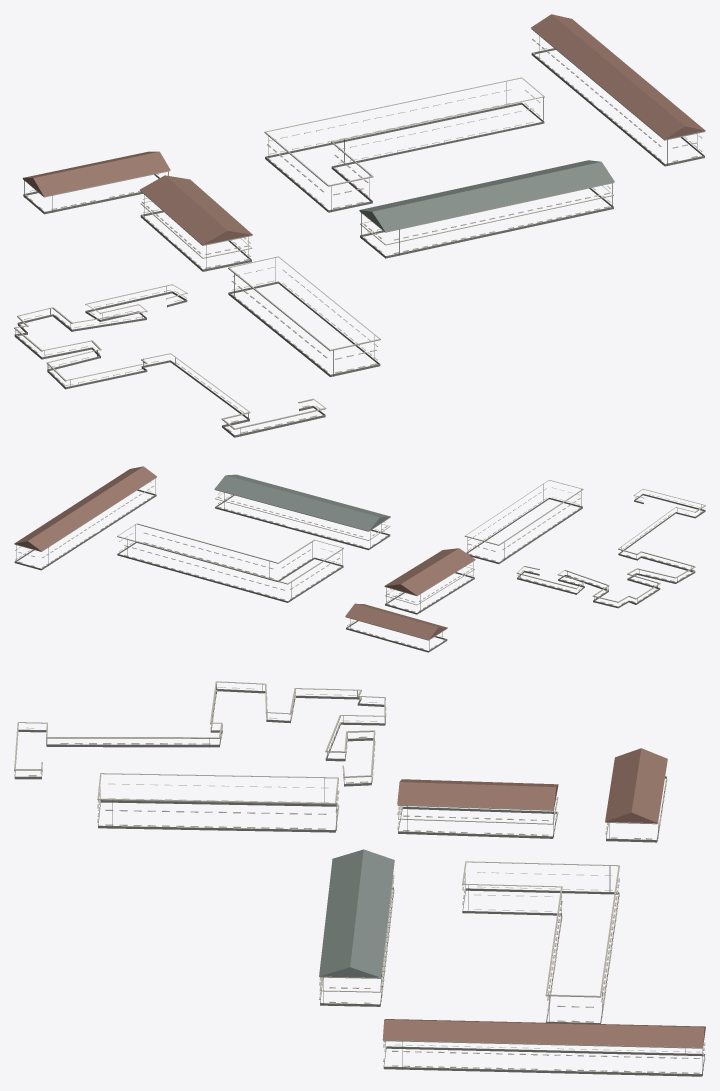
The model's file is district_1_-3.glb.
The picture shows the model from 3 angles, top to bottom: view 1: azimuth 30°, elevation 25°; view 2: azimuth 150°, elevation 25°; view 3: azimuth 270°, elevation 25°; orthographic projection. The views are drawn at different scales.
Parts seen in each view (by area): view 1: RoofMetal, MasonryTrim; view 2: RoofMetal, MasonryTrim, MetalDetails; view 3: RoofMetal, MasonryTrim.
Boxes of the visible parts, x1,y1,x2,y2 form: RoofMetal: [22, 14, 705, 244]; MasonryTrim: [14, 28, 705, 437]; RoofMetal: [14, 466, 475, 639]; MasonryTrim: [14, 477, 705, 652]; MetalDetails: [16, 479, 701, 651]; RoofMetal: [319, 748, 705, 1047]; MasonryTrim: [14, 681, 705, 1076].
Bounding box in the file's own units: 212 × 10.1 × 161.
